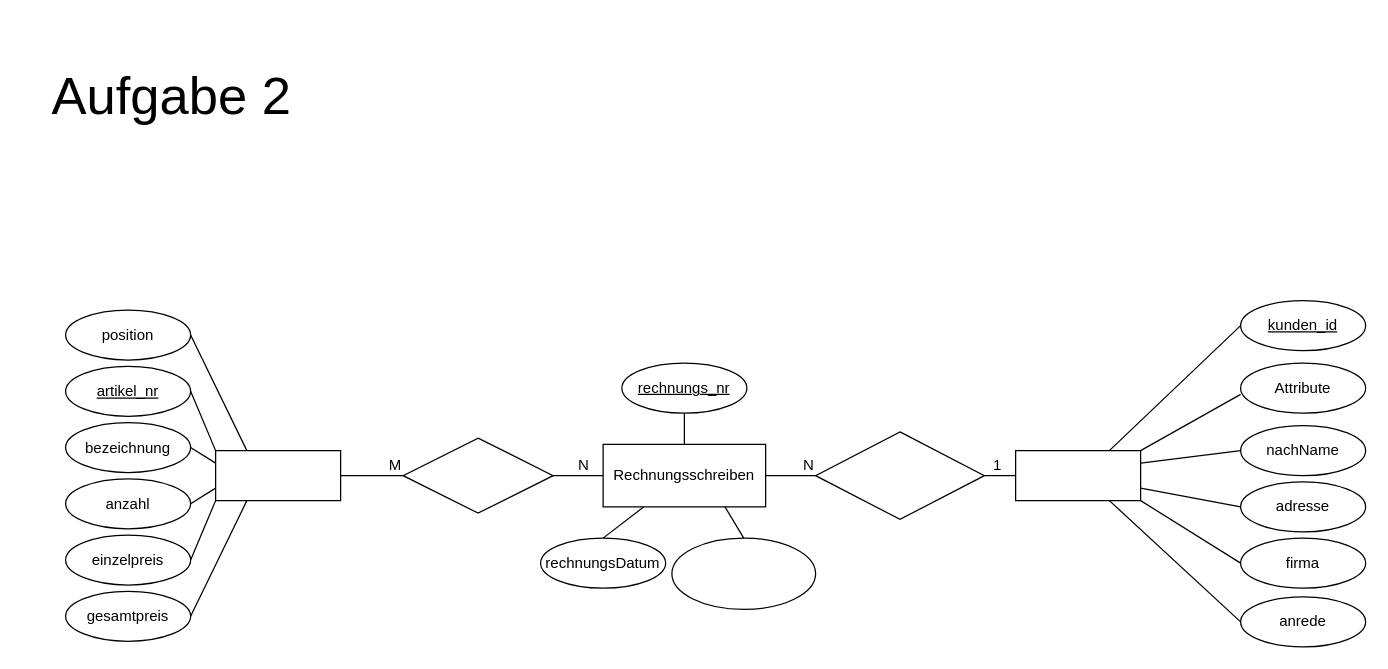
This 1388x669 diagram has some shape labels left out. The shapes that lost their labels are listed below. From the top down, each one's box as (x1, y1, x2, y2) in pixels, then its label:
(214, 449, 341, 501): Artikel
(402, 437, 553, 513): beinhalted
(814, 431, 984, 519): wird_gesended_an
(1014, 449, 1141, 501): Kunde
(671, 537, 816, 609): rechnungsBetrag
